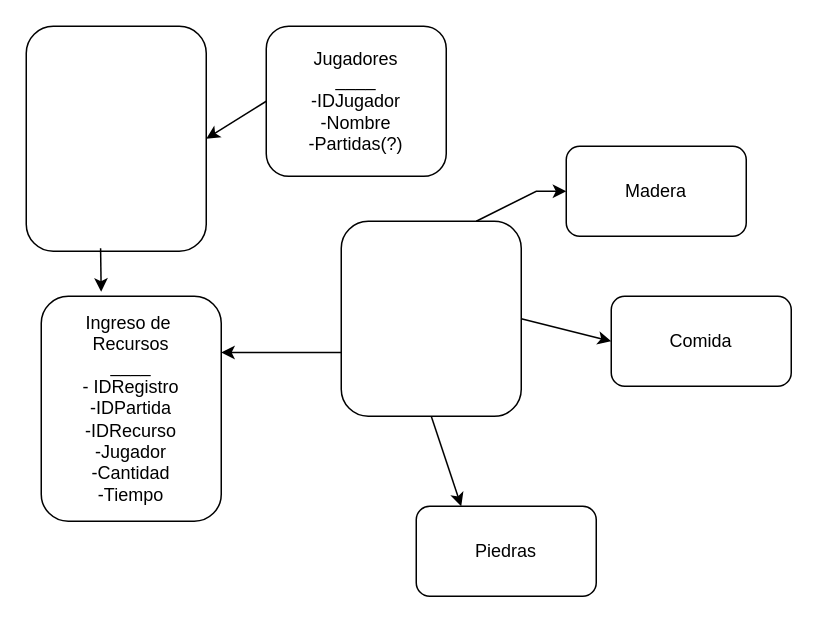
Some shapes in this 818 by 623 pixel diagram are drawn without their labels. The centre of each missing label's shape, as x and y in pixels:
"Partidas _____ -IDPartida -Jugadores (?) -MaxPiedra -MaxMadera -MaxComida" belongs at [115,138].
"Recursos ____ -IDRecurso -Nombre ???" belongs at [430,318].
